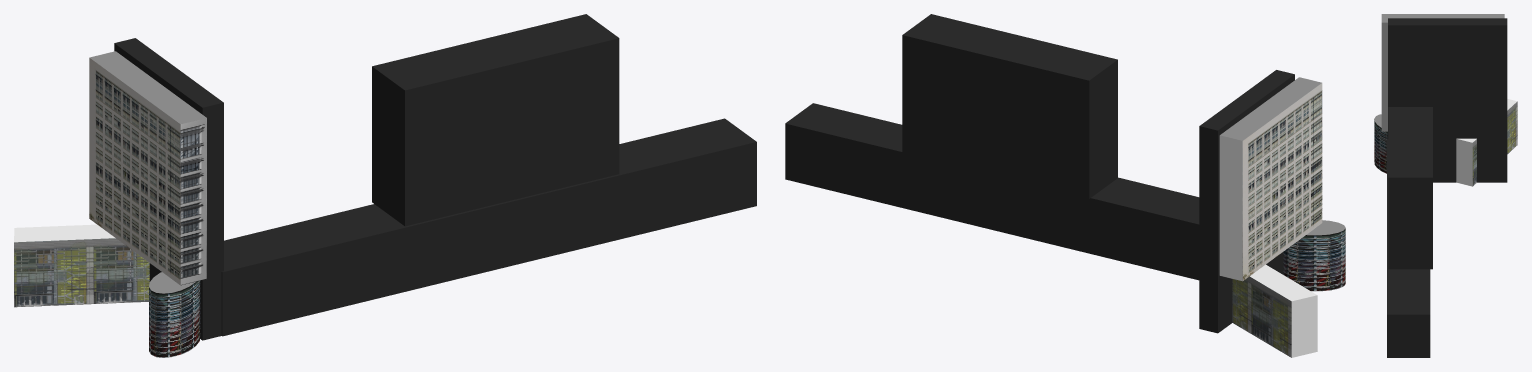
The model's file is yia_wmy.FBX.
3 renders of one model, left to right at view 1: azimuth 30°, elevation 25°; view 2: azimuth 150°, elevation 25°; view 3: azimuth 270°, elevation 25°, orthographic. The views are drawn at different scales.
Parts seen in each view (by area): view 1: Box004, Box005, Box001, Box002, Box003, Cylinder001; view 2: Box005, Box004, Box001, Box003, Box002, Cylinder001; view 3: Box003, Box005, Box004, Box002, Box001, Cylinder001.
Boxes of the visible parts, x1,y1,x2,y2 form: Box004: [221, 118, 756, 336]; Box005: [372, 14, 619, 226]; Box001: [89, 51, 206, 285]; Box002: [14, 224, 149, 307]; Box003: [114, 38, 223, 340]; Cylinder001: [149, 272, 200, 357]; Box005: [902, 14, 1117, 198]; Box004: [785, 103, 1199, 280]; Box001: [1219, 77, 1322, 281]; Box003: [1199, 70, 1294, 333]; Box002: [1232, 264, 1317, 357]; Cylinder001: [1283, 220, 1345, 291]; Box003: [1388, 18, 1507, 182]; Box005: [1388, 107, 1432, 269]; Box004: [1387, 138, 1430, 357]; Box002: [1456, 99, 1517, 186]; Box001: [1381, 14, 1504, 131]; Cylinder001: [1374, 114, 1387, 173].
Size of the model in its own units: 407 by 137 by 113.
Materials: 11 (4 with a texture image).
